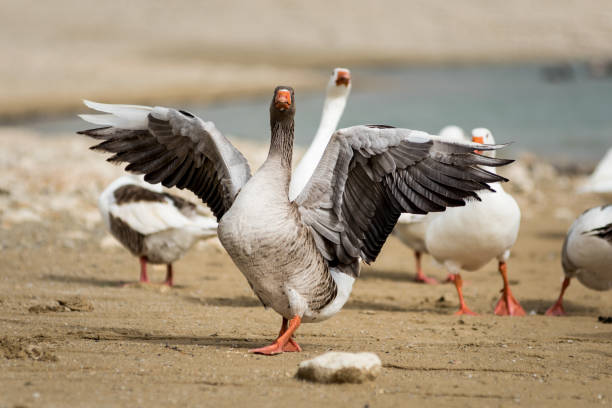goose: (201, 82, 326, 354), (422, 123, 532, 331), (100, 174, 202, 300), (546, 200, 612, 332)
